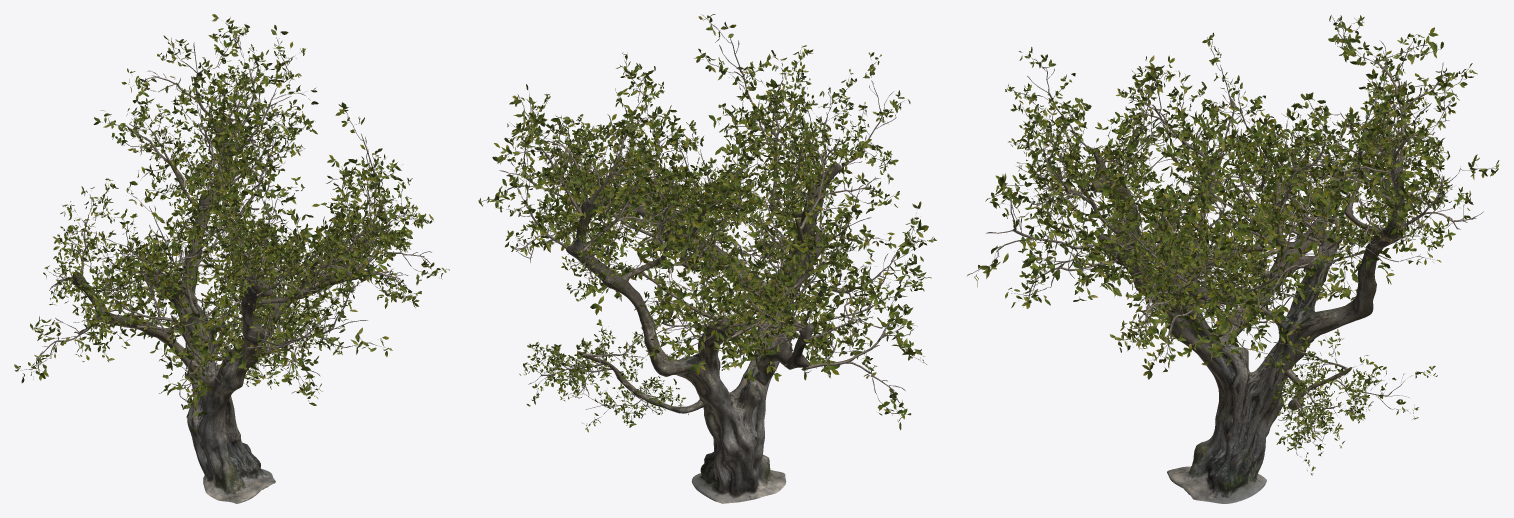
File: greattree.glb
The picture shows the model from 3 angles, left to right: view 1: azimuth 30°, elevation 25°; view 2: azimuth 150°, elevation 25°; view 3: azimuth 270°, elevation 25°; orthographic projection. The views are drawn at different scales.
Visible parts, largest first — view 1: island_tree_01_LOD0.002, island_tree_01_LOD0, island_tree_01_LOD0.001; view 2: island_tree_01_LOD0.002, island_tree_01_LOD0, island_tree_01_LOD0.001; view 3: island_tree_01_LOD0.002, island_tree_01_LOD0, island_tree_01_LOD0.001.
Part boxes in pixels (box(x1,y1,x2,y2)): island_tree_01_LOD0.002: box(14, 14, 449, 432); island_tree_01_LOD0: box(18, 23, 446, 426); island_tree_01_LOD0.001: box(72, 125, 374, 503); island_tree_01_LOD0.002: box(478, 14, 936, 432); island_tree_01_LOD0: box(481, 14, 932, 423); island_tree_01_LOD0.001: box(566, 136, 841, 503); island_tree_01_LOD0.002: box(967, 15, 1499, 475); island_tree_01_LOD0: box(971, 15, 1495, 466); island_tree_01_LOD0.001: box(1077, 140, 1406, 503).
Bounding box in the file's own units: 4.71 × 4.97 × 4.81.
Materials: 3 (3 with a texture image).
